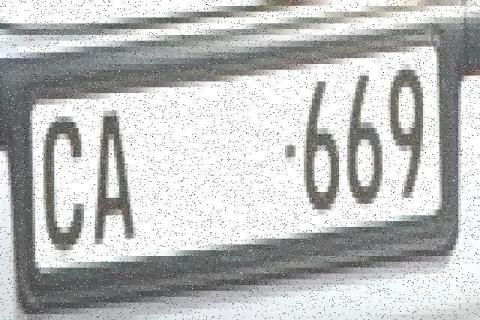LicensePlate: (13, 23, 464, 312)
